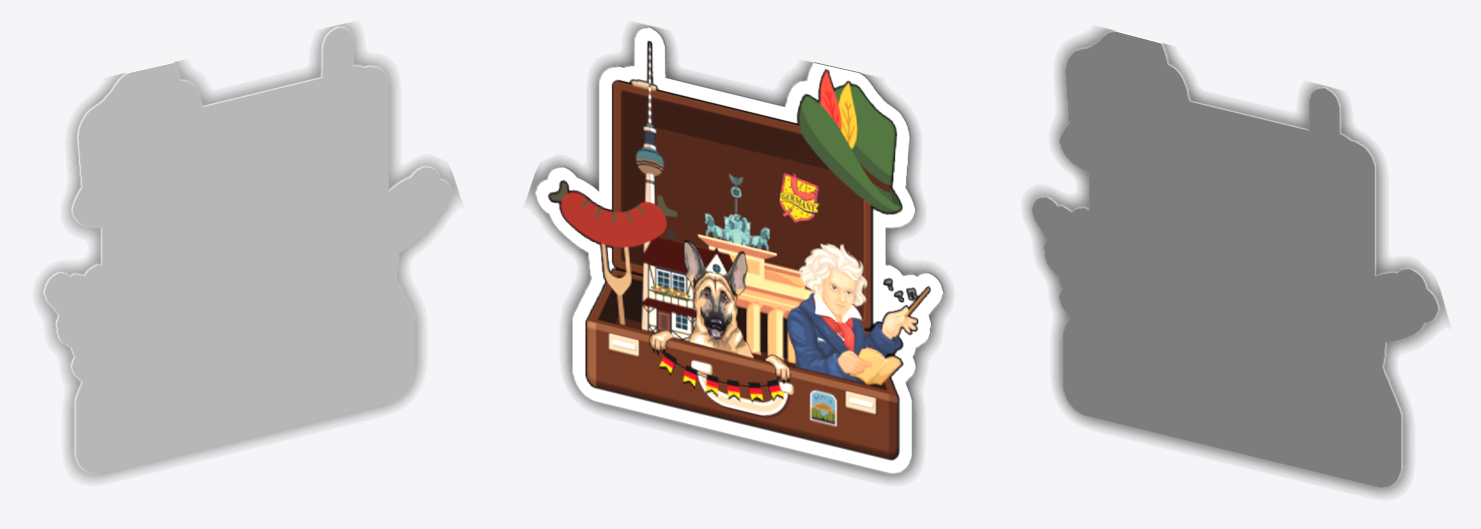
File: mdl_bonus_sticker_ge.gltf
3 views of the same model, side by side, from view 1: azimuth 30°, elevation 25°; view 2: azimuth 150°, elevation 25°; view 3: azimuth 330°, elevation 25° (orthographic).
Visible parts, largest first — view 1: Plane.010; view 2: Plane.010; view 3: Plane.010.
Boxes of the visible parts, x1,y1,x2,y2 form: Plane.010: (36,23,461,482); Plane.010: (526,23,951,482); Plane.010: (1024,27,1447,496).
Size of the model in its own units: 0.0662 by 0.0574 by 0.00023.
Materials: 2 (2 with a texture image).
